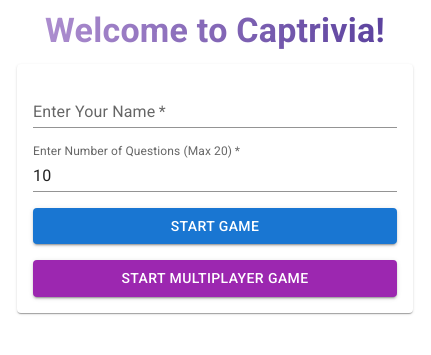
Test: Home › should show errors when the name is empty
Click the button "Start Game" at {"x": 215, "y": 226}, box [33,208,397,244]
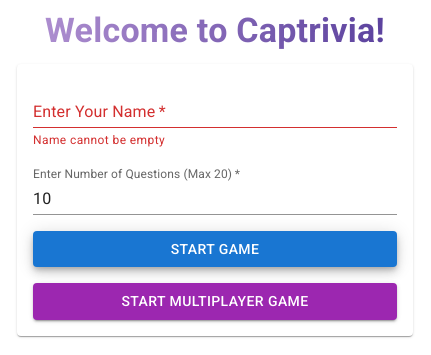
Expected: the text "Name cannot be empty" is shown once, [33,133,165,147]
